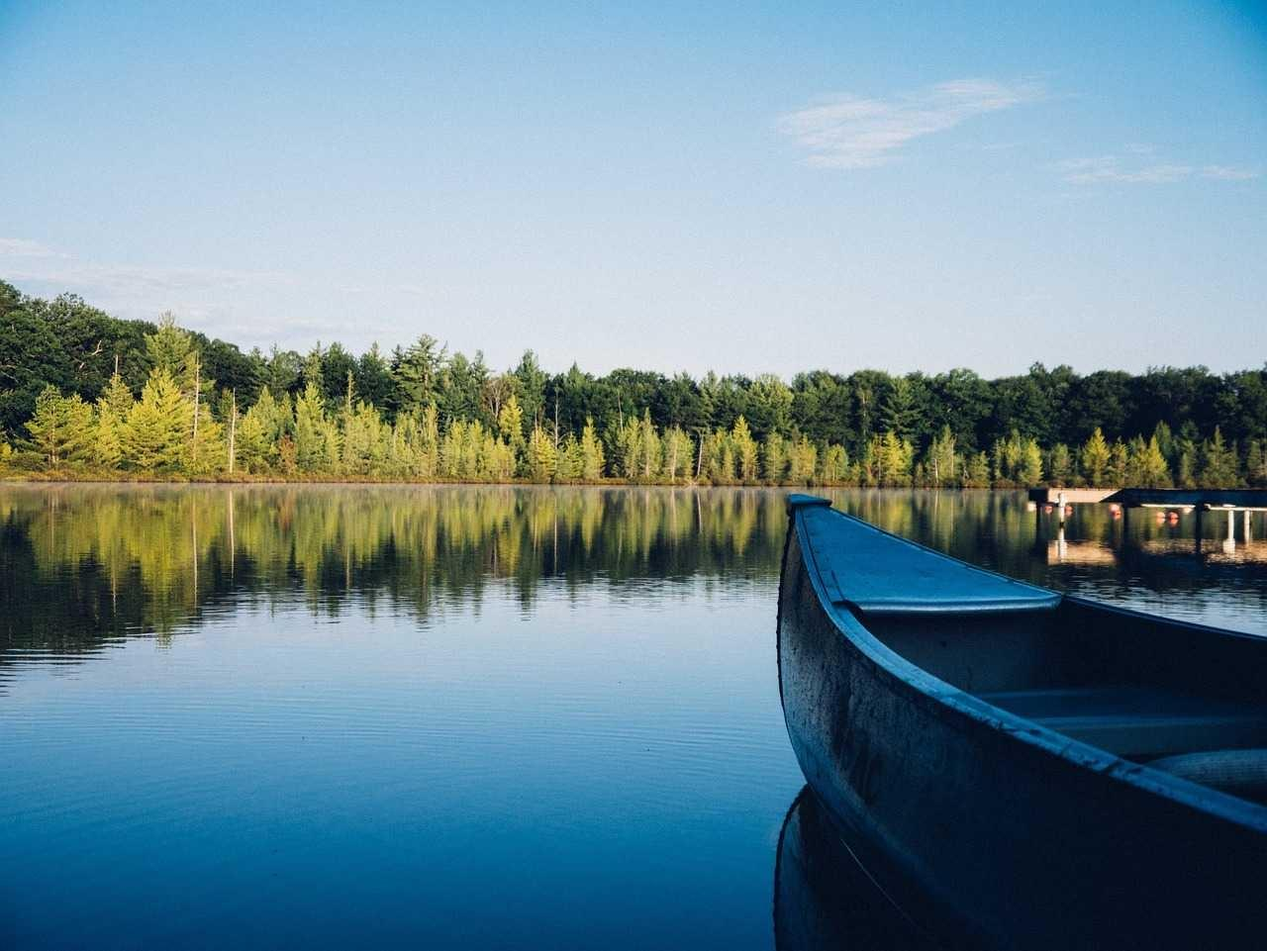kayak: (775, 494, 1264, 949)
